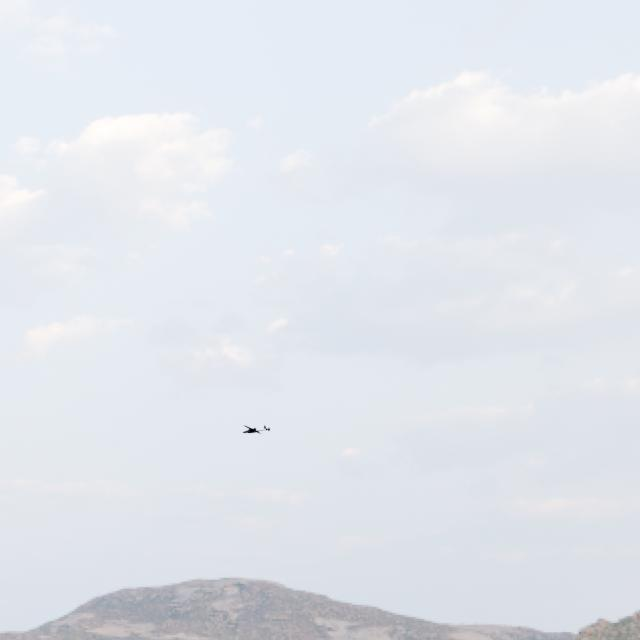Airaplan: (242, 425, 270, 434)
